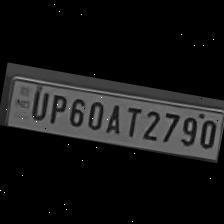0: (82, 95, 107, 131), (195, 113, 220, 149)
2: (136, 104, 161, 142)
6: (64, 91, 89, 128)
7: (156, 106, 181, 144)
9: (174, 110, 200, 147)
A: (101, 98, 126, 135)
P: (43, 88, 69, 124)
T: (119, 100, 144, 139)
U: (25, 85, 50, 121)
